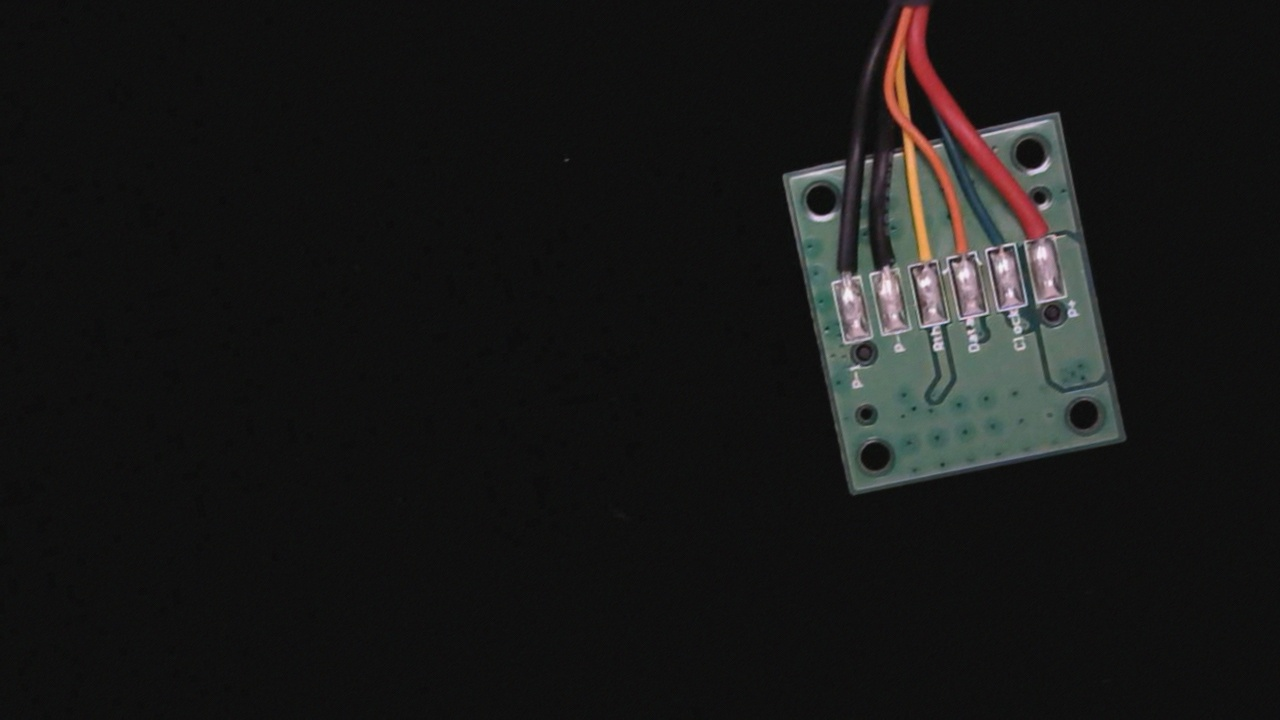Black: (860, 224, 901, 286)
Black1: (822, 232, 863, 296)
Green: (976, 203, 1019, 264)
Orange: (939, 208, 977, 271)
Red: (1015, 190, 1059, 256)
Yellow: (898, 212, 941, 279)
